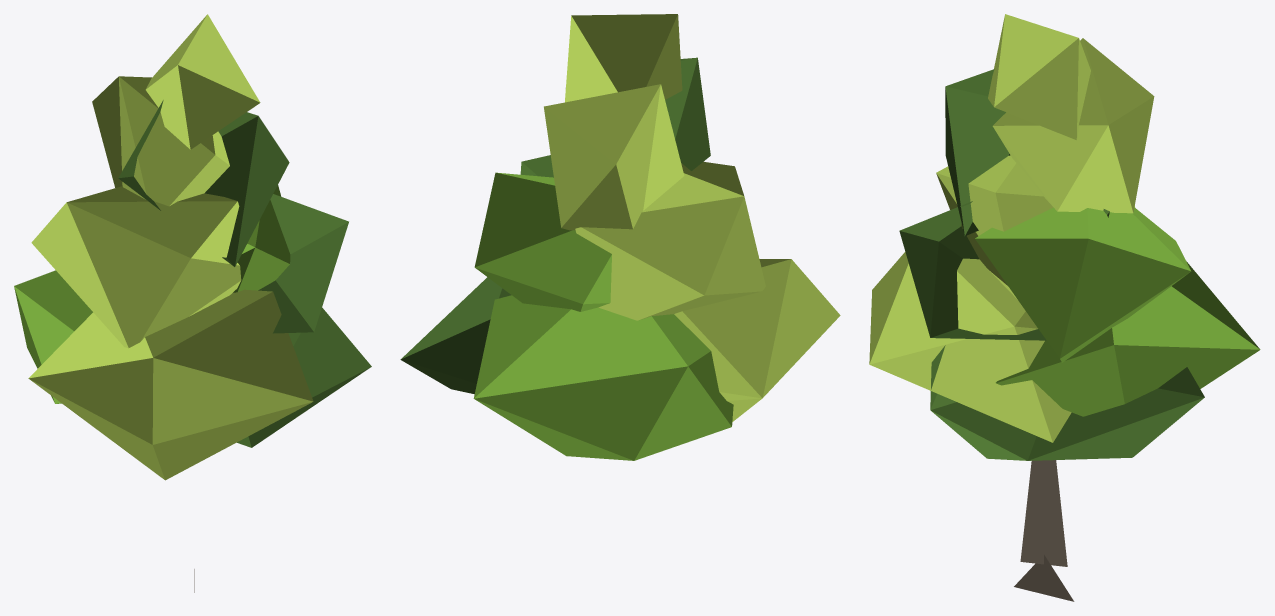
File: tree_beech_3_lod2.glb
3 views of the same model, side by side, from view 1: azimuth 30°, elevation 25°; view 2: azimuth 150°, elevation 25°; view 3: azimuth 270°, elevation 25° (orthographic). The views are drawn at different scales.
Visible parts, largest first — view 1: tree_beech_3_lod2; view 2: tree_beech_3_lod2; view 3: tree_beech_3_lod2.
Boxes of the visible parts, x1,y1,x2,y2 form: tree_beech_3_lod2: (14,14,371,592); tree_beech_3_lod2: (400,14,840,460); tree_beech_3_lod2: (869,14,1260,601).
Bounding box in the file's own units: 6.46 × 10.8 × 6.7.
